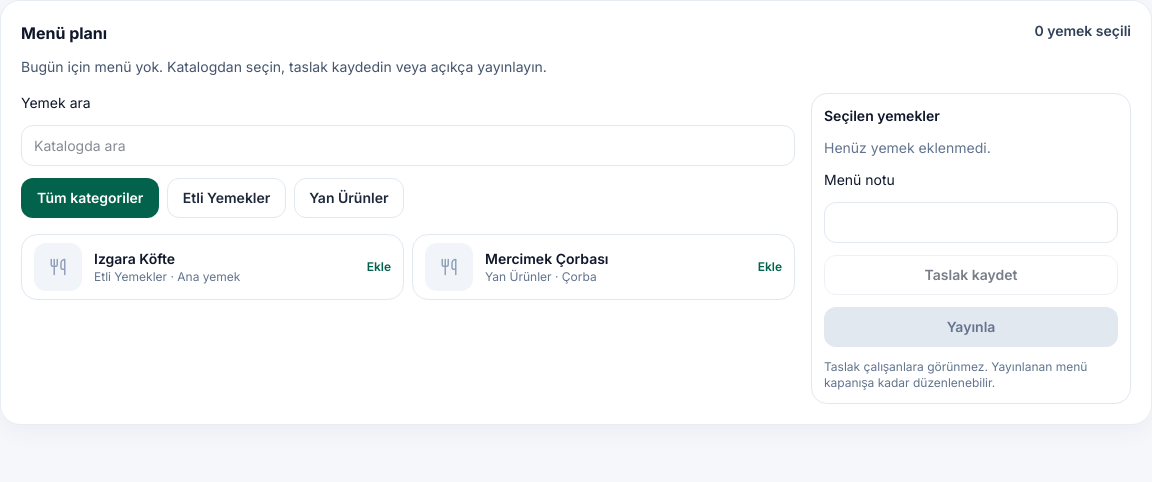
Scenario: günlük menü ekranları › katalogda arar, ekler, çıkarır ve yayınla düğmesini seçimden önce kapalı tutar
Check: the button "Taslak kaydet" is disabled, box [824,255,1118,295]
Check: the button "Taslak kaydet" holds "taslak", box [824,255,1118,295]
Click the button "Izgara Köfte Etli Yemekler · Ana yemek Ekle": (212, 267) [21,234,404,300]
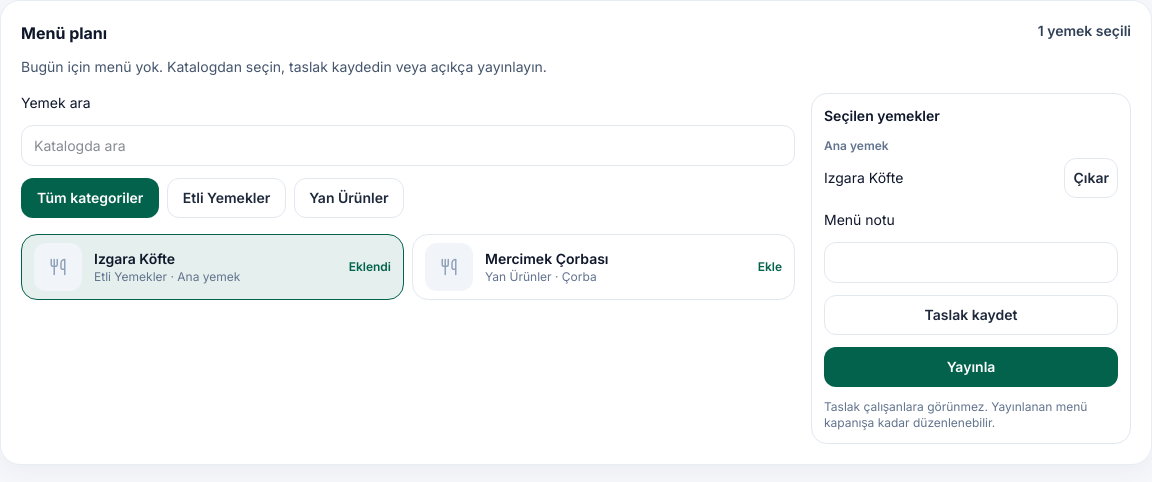
Check: the button "Çıkar" is shown, box [1064,158,1118,198]
Check: the button "Yayınla" is enabled, box [824,347,1118,387]
In the field labelled "Yemek ara": (408, 145) [21,125,795,166], type "mercimek"
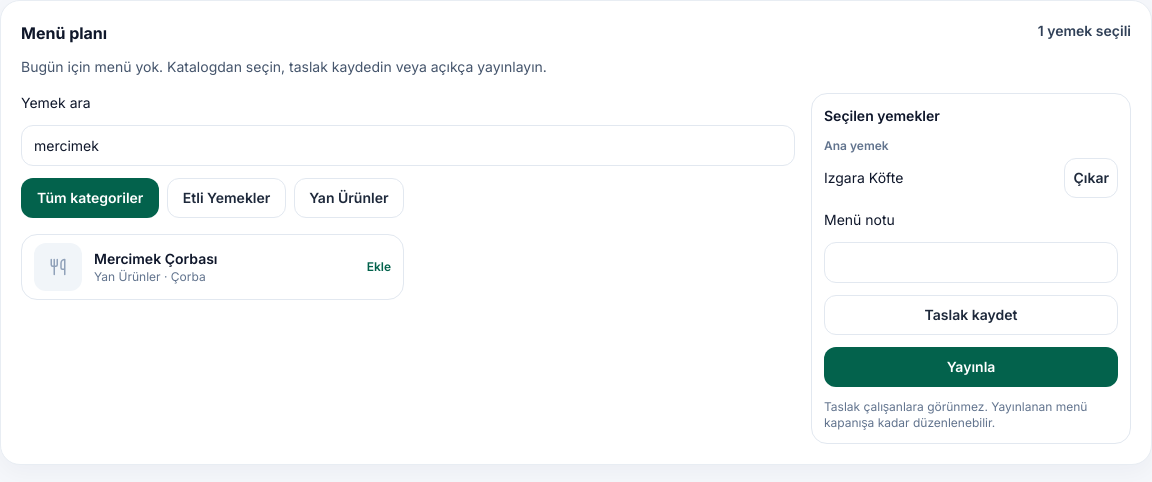
Check: the button "Mercimek Çorbası Yan Ürünler · Çorba Ekle" is shown, box [21,234,404,300]
Click the button "Etli Yemekler": (227, 198) [167,178,286,218]
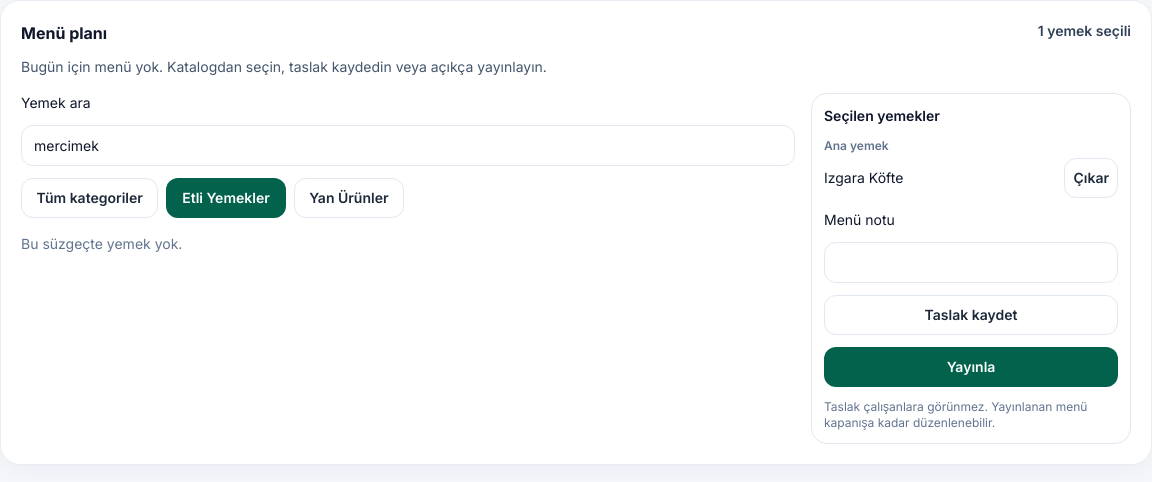
Check: the text "Bu süzgeçte yemek yok." is shown, box [21,235,182,252]
